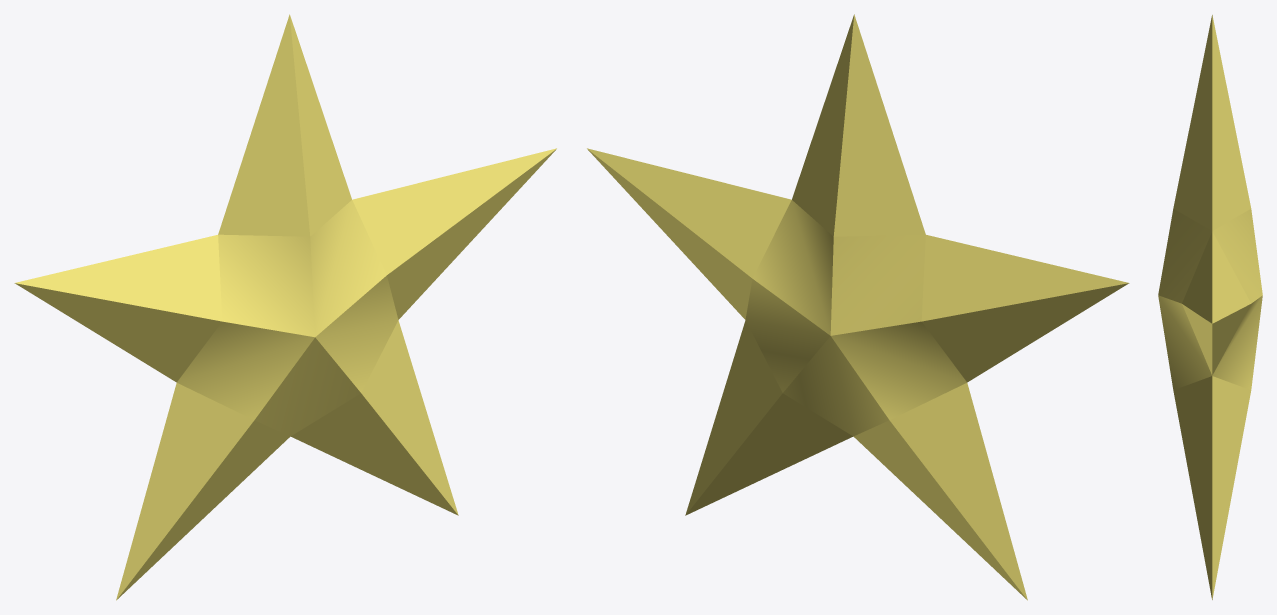
The model's file is Star.obj.
The picture shows the model from 3 angles, left to right: view 1: azimuth 30°, elevation 25°; view 2: azimuth 150°, elevation 25°; view 3: azimuth 270°, elevation 25°; orthographic projection. The views are drawn at different scales.
Parts seen in each view (by area): view 1: polySurface11; view 2: polySurface11; view 3: polySurface11.
Part boxes in pixels (x1,y1,x2,y2): polySurface11: (14, 14, 556, 600); polySurface11: (587, 14, 1129, 600); polySurface11: (1158, 15, 1262, 599).
Size of the model in its own units: 5.77 by 5.52 by 1.03.
Materials: 1 (1 with a texture image).
